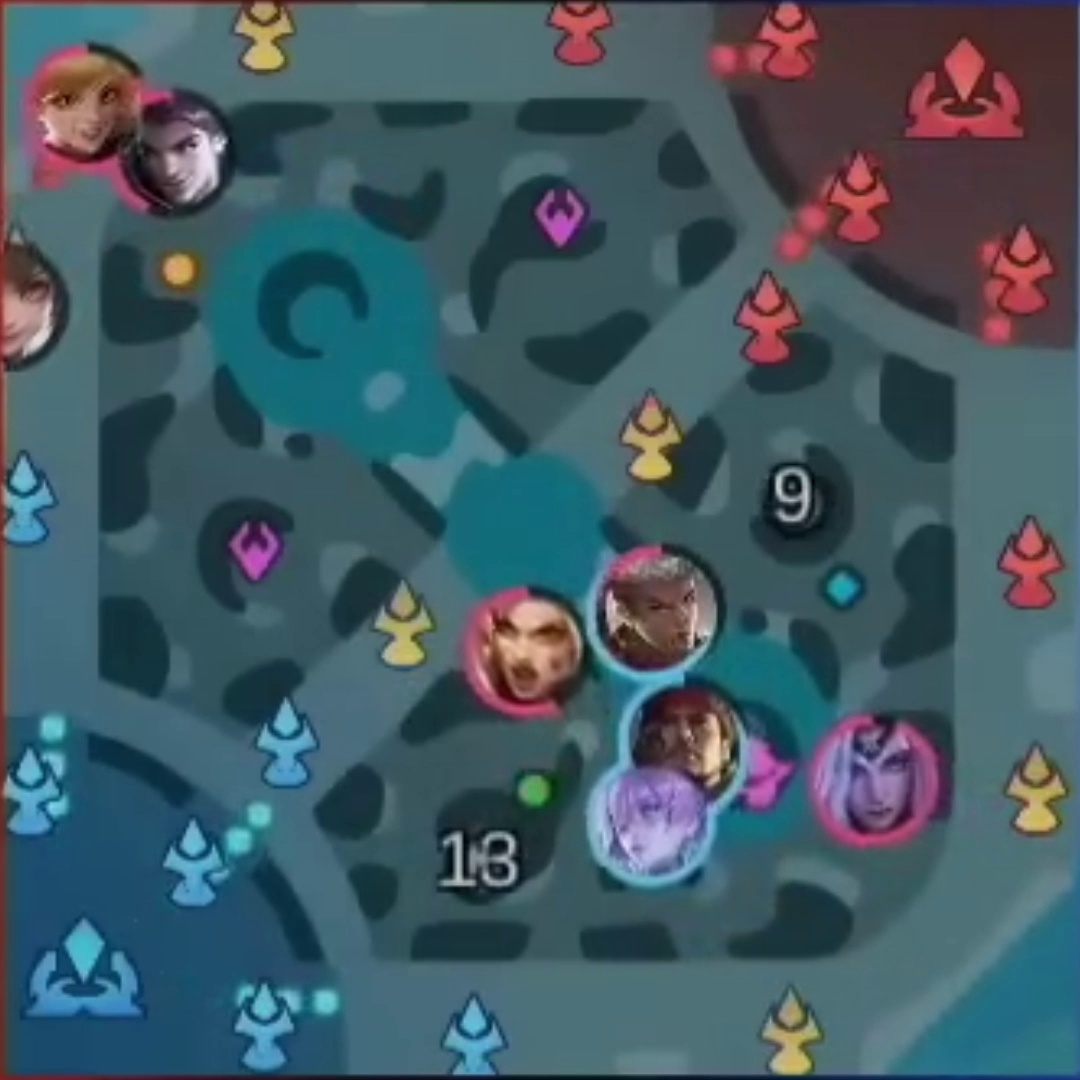Chou: (614, 564, 708, 658)
Claude: (139, 111, 220, 201)
Fanny: (47, 60, 130, 156)
Lapu-Lapu: (639, 696, 727, 775)
Masha: (484, 604, 577, 702)
Novaria: (600, 775, 696, 868)
Valentina: (823, 729, 923, 825)
Wanwan: (6, 252, 51, 367)
